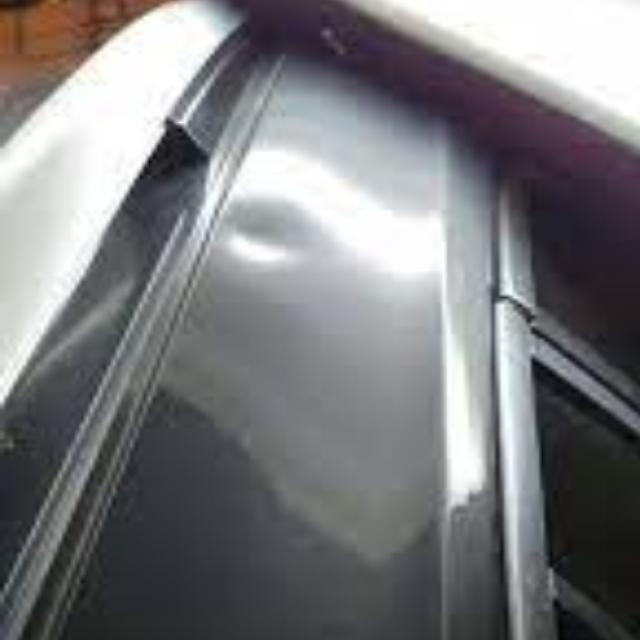dents: (216, 176, 319, 292)
